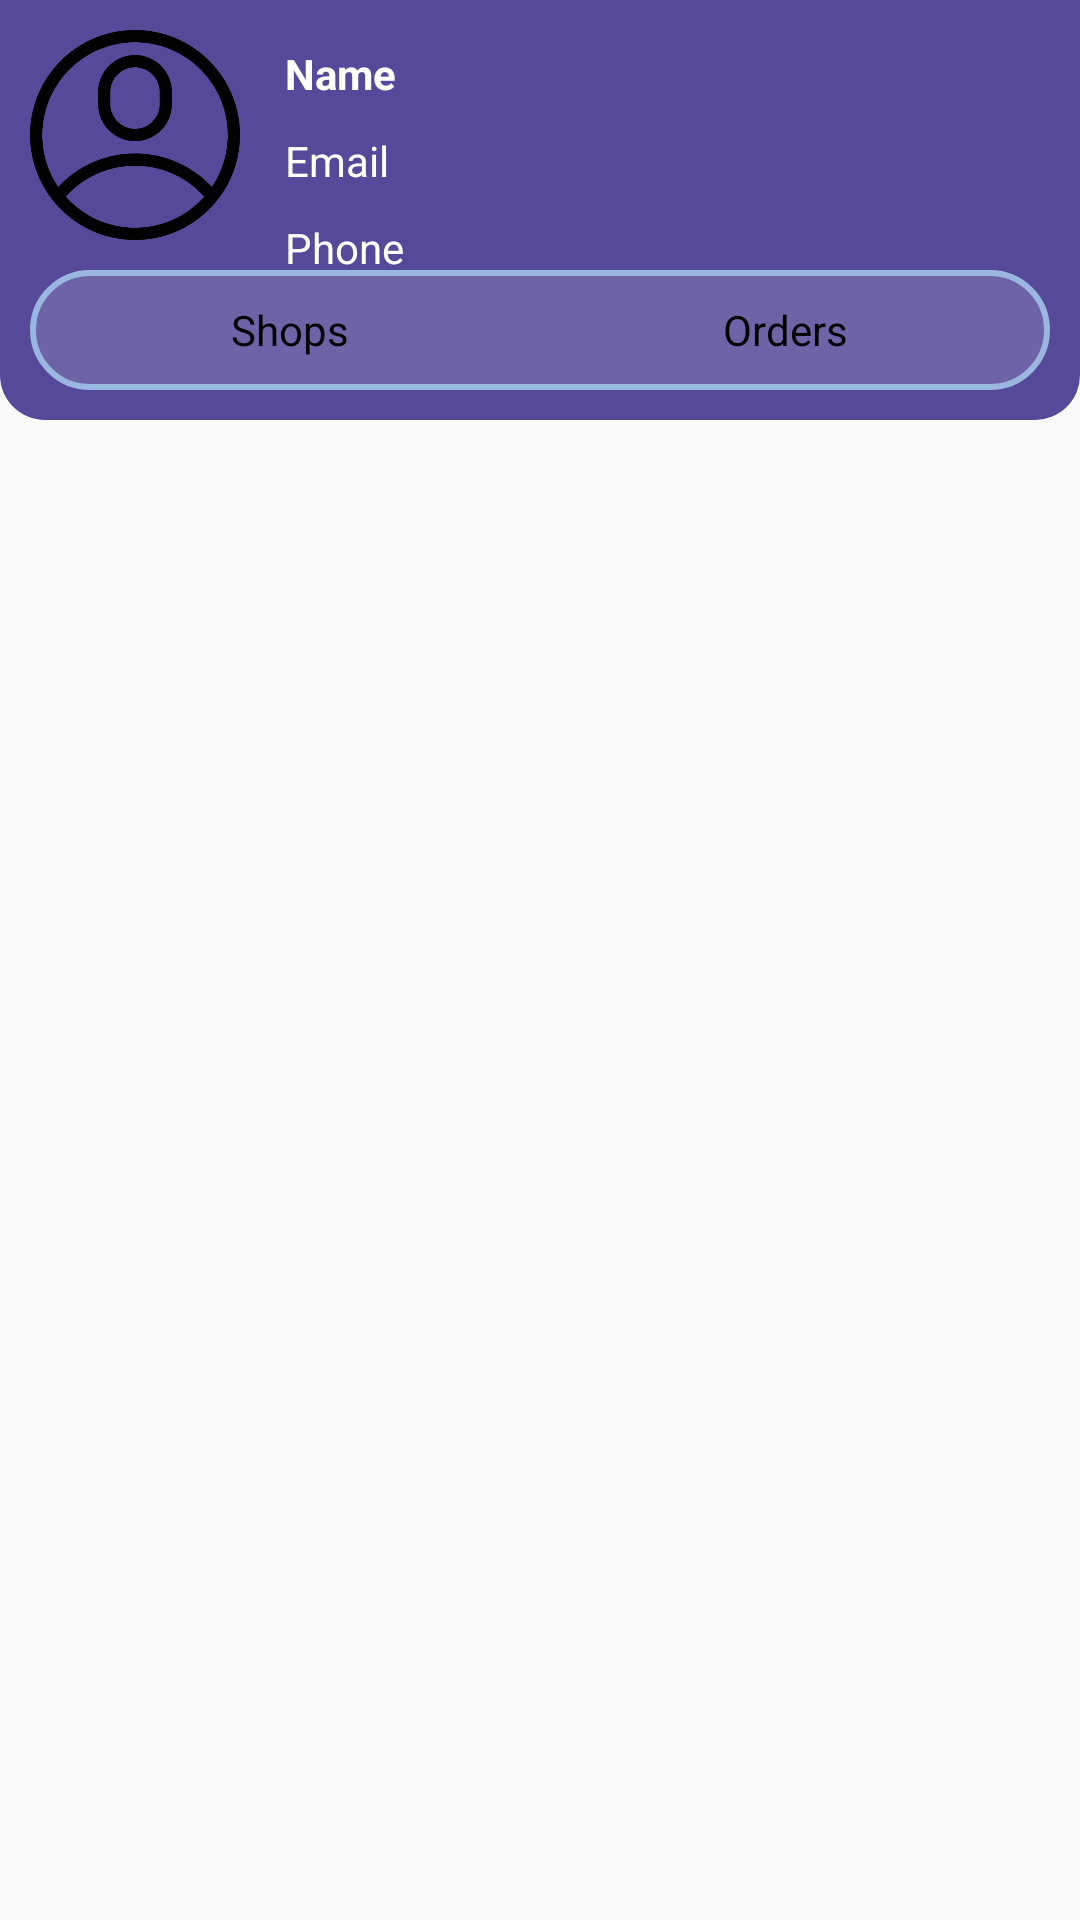

Where to tap for icons on this 1080x1920 app screen, as point (x, y):
user profile: point (135, 135)
